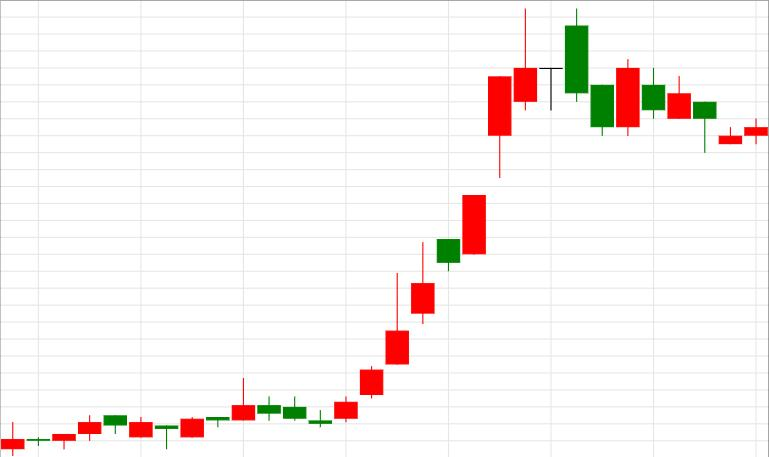shooting_star_fall: (335, 9, 536, 423)
